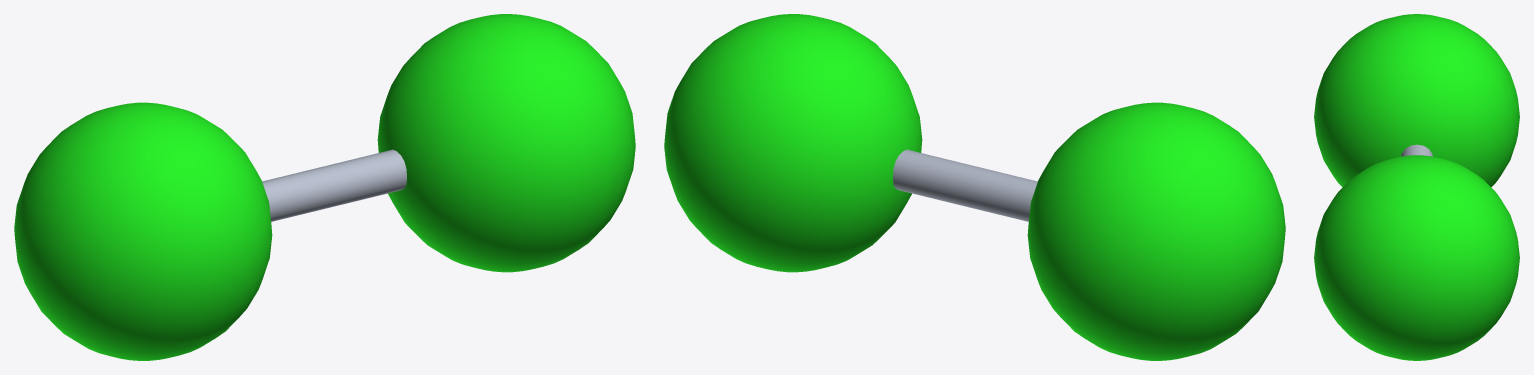
The picture shows the model from 3 angles, left to right: view 1: azimuth 30°, elevation 25°; view 2: azimuth 150°, elevation 25°; view 3: azimuth 270°, elevation 25°; orthographic projection. The views are drawn at different scales.
Parts seen in each view (by area): view 1: Cl (×2), bond; view 2: Cl (×2), bond; view 3: Cl (×2), bond.
Part boxes in pixels (left/top/right/bottom): Cl (×2): left=14, top=14, right=635, bottom=360; bond: left=262, top=149, right=406, bottom=221; Cl (×2): left=664, top=14, right=1285, bottom=360; bond: left=893, top=149, right=1037, bottom=221; Cl (×2): left=1314, top=14, right=1519, bottom=360; bond: left=1401, top=144, right=1432, bottom=156.
Bounding box in the file's own units: 0.22 × 0.0839 × 0.0839.
